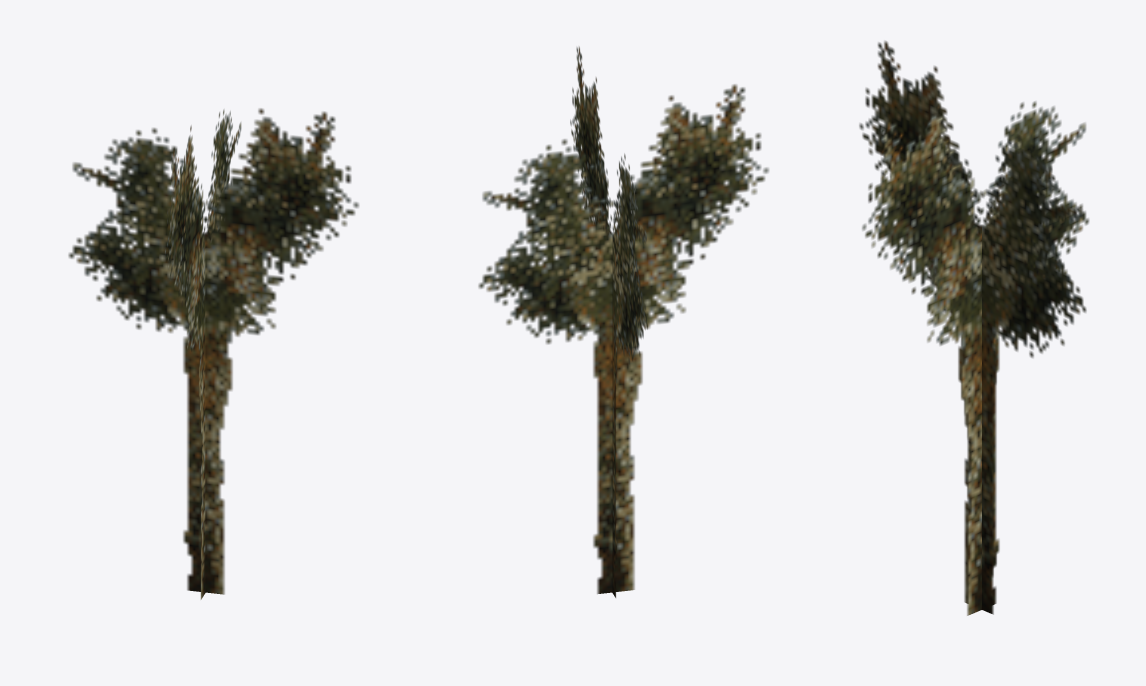
File: tree052.glb
3 renders of one model, left to right at view 1: azimuth 30°, elevation 25°; view 2: azimuth 150°, elevation 25°; view 3: azimuth 270°, elevation 25°, orthographic. The views are drawn at different scales.
Visible parts, largest first — view 1: tree052; view 2: tree052; view 3: tree052.
Part boxes in pixels (x1,y1,x2,y2): tree052: (68,108,359,599); tree052: (478,46,768,597); tree052: (859,41,1089,615).
Bounding box in the file's own units: 1.39 × 2.82 × 1.39.
1 material, 1 textured.
